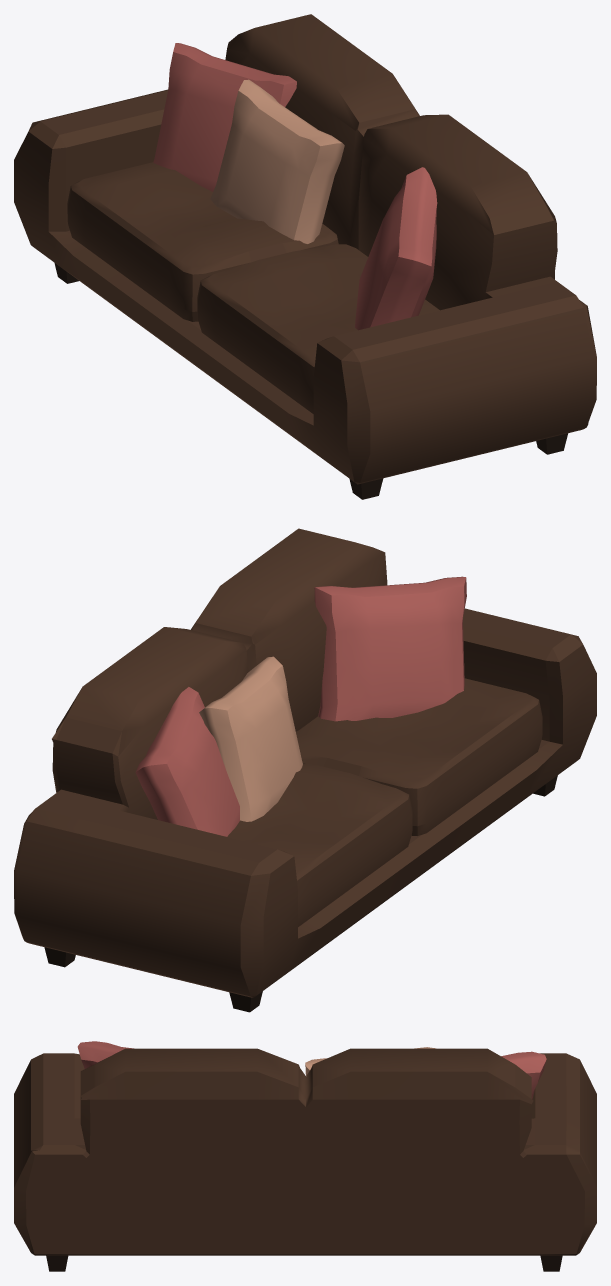
The model's file is 01bank_donker_nieuwestijl.fbx.
3 renders of one model, top to bottom at view 1: azimuth 30°, elevation 25°; view 2: azimuth 150°, elevation 25°; view 3: azimuth 270°, elevation 25°, orthographic. The views are drawn at different scales.
Parts seen in each view (by area): view 1: pCube323; view 2: pCube323; view 3: pCube323.
Boxes of the visible parts, x1,y1,x2,y2 form: pCube323: (14, 14, 596, 499); pCube323: (14, 528, 596, 1012); pCube323: (14, 1041, 596, 1271).
Size of the model in its own units: 1.54 by 1.45 by 3.77.
